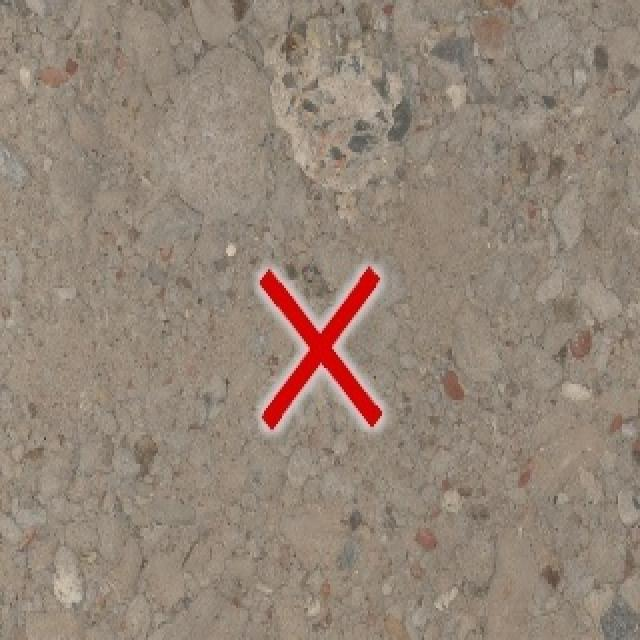x_marker: (259, 268, 381, 428)
